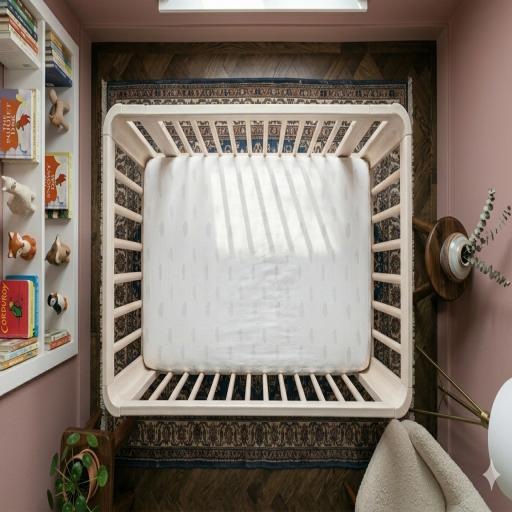crib: (103, 104, 412, 417)
